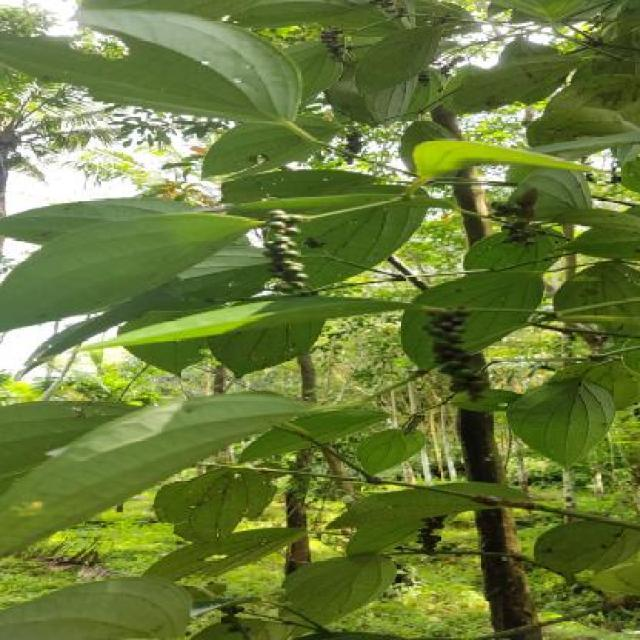UNRIPE: (423, 309, 491, 400), (260, 211, 305, 294), (483, 205, 543, 246), (412, 514, 451, 554), (320, 28, 352, 65), (340, 134, 360, 163)
